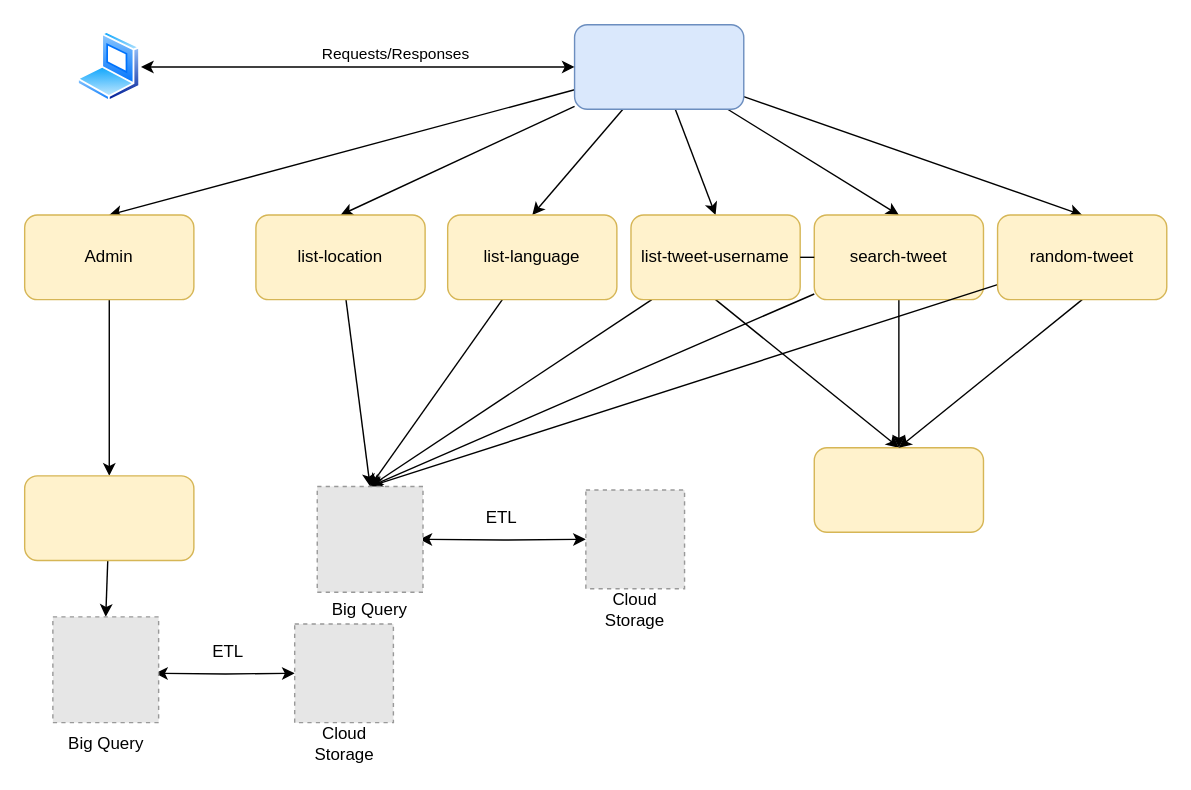
Image size: 1191x790. Some labels were removed from this diagram. Grey dashed boxes stand in for pictures. Here are the shapes that lost their labels. From the top down, the centre of each, then its label:
At point (658, 66): "API Gateway".
At point (898, 489): "Limpeza de lista de tweets".
At point (108, 517): "Authentication".
